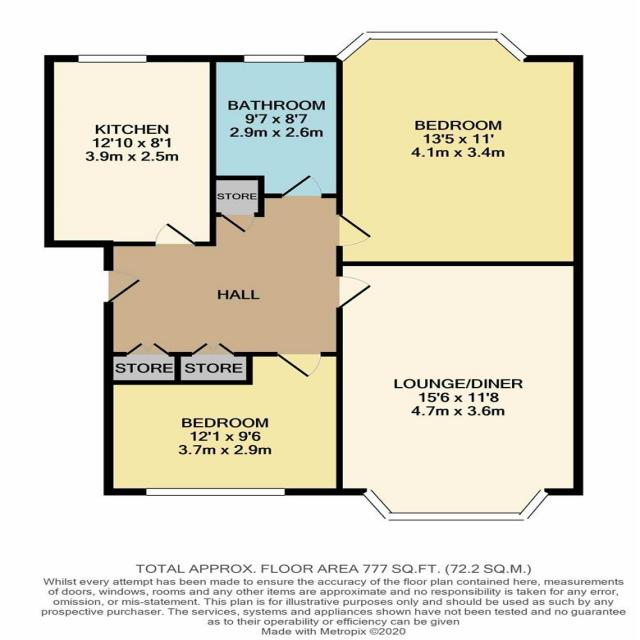DOOR: (102, 269, 143, 303), (275, 351, 324, 379), (334, 213, 374, 247), (335, 275, 373, 309), (281, 174, 324, 199), (154, 222, 196, 247), (220, 212, 257, 234)
ROOM: (336, 261, 584, 521), (336, 30, 584, 266), (102, 173, 374, 379), (102, 351, 344, 496), (44, 55, 217, 248), (209, 55, 344, 198)
WINDOW: (386, 511, 528, 521), (145, 487, 286, 497), (365, 31, 499, 40), (335, 32, 372, 62), (519, 487, 550, 521), (495, 32, 529, 63), (362, 489, 393, 520), (78, 54, 148, 63), (244, 54, 306, 63)
